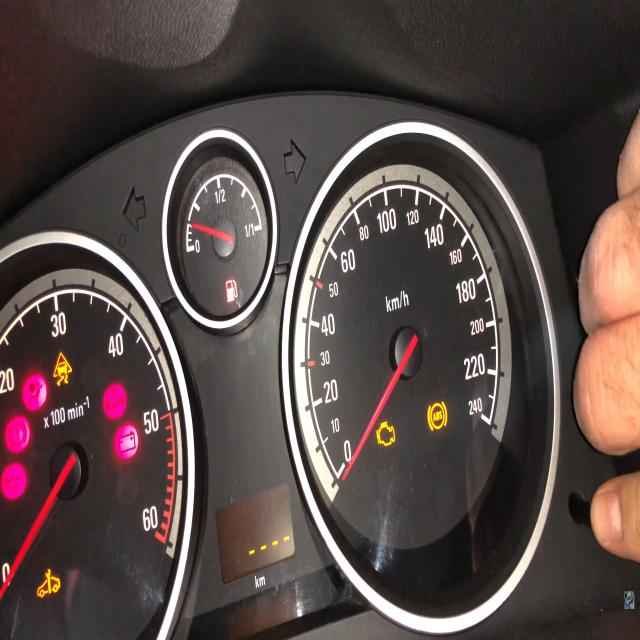Anti Lock Braking System: (427, 400, 448, 432)
Braking System Issue: (4, 414, 32, 454)
Charging System Issue: (114, 422, 139, 460)
Check Engine: (376, 421, 396, 447)
Electronic Stability Problem -ESP-: (52, 351, 72, 386)
Low Engine Oil Warning Light: (0, 462, 28, 501)
SRS-Airbag: (22, 373, 48, 412)
